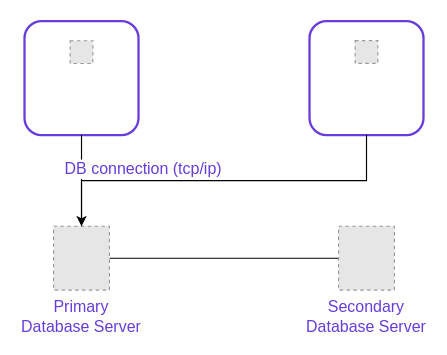
The diagram is 447 pixels wide and 355 high, and some of its shapes have lost their labels. Grey dashed boxes stand in for pictures. Each missing label, with the box of its shape:
Central Server Node 1: (23, 19, 139, 136)
Central Server Node 2: (308, 19, 424, 136)
